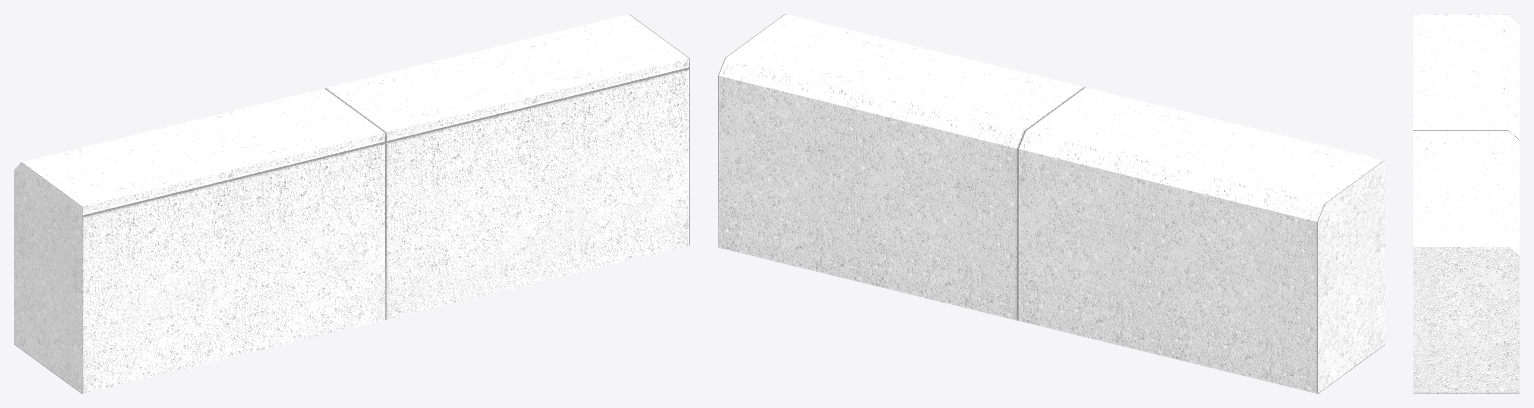
File: Road_Curb.glb
The picture shows the model from 3 angles, left to right: view 1: azimuth 30°, elevation 25°; view 2: azimuth 150°, elevation 25°; view 3: azimuth 270°, elevation 25°; orthographic projection. The views are drawn at different scales.
Visible parts, largest first — view 1: Road_Curb; view 2: Road_Curb; view 3: Road_Curb.
Part boxes in pixels (<box>): Road_Curb: <box>14,14,689,393</box>; Road_Curb: <box>718,14,1384,393</box>; Road_Curb: <box>1413,14,1519,393</box>.
Bounding box in the file's own units: 0.992 × 0.2917 × 0.1916.
1 material, 1 textured.
